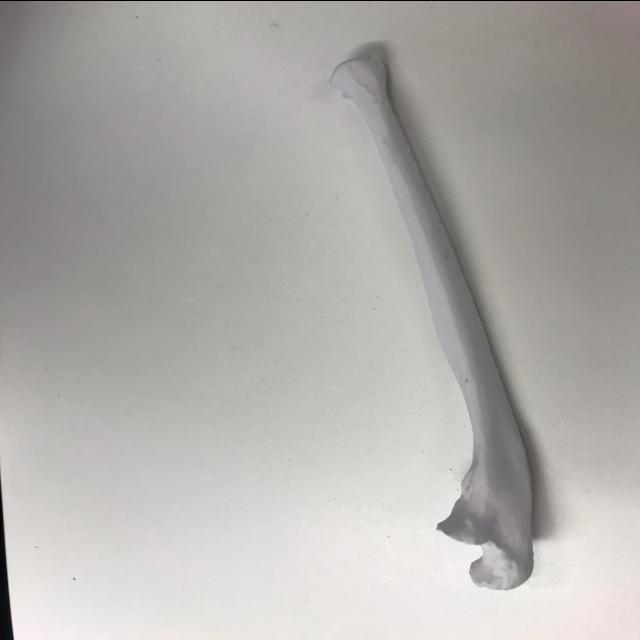bone: (329, 47, 549, 596)
